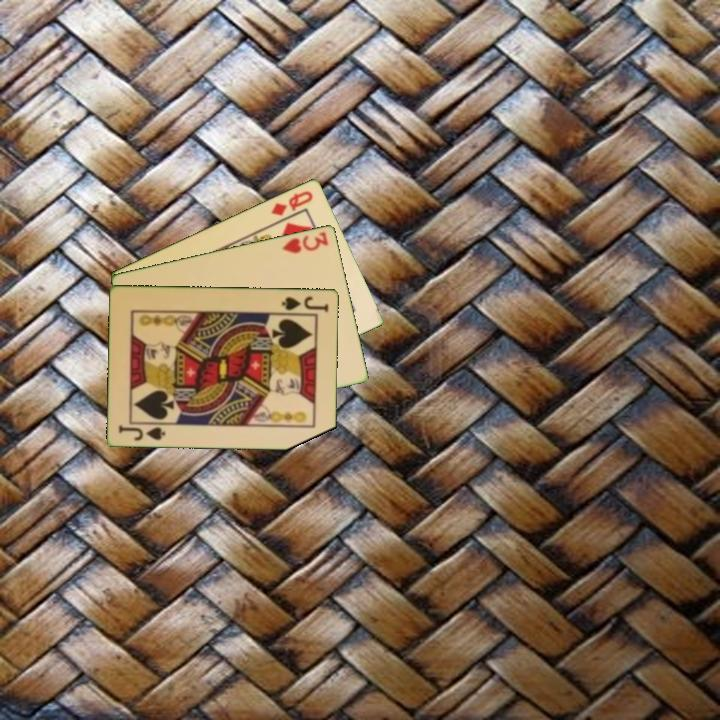3h: (279, 228, 331, 256)
Js: (278, 293, 332, 315), (116, 421, 168, 443)
Qd: (267, 187, 316, 218)
